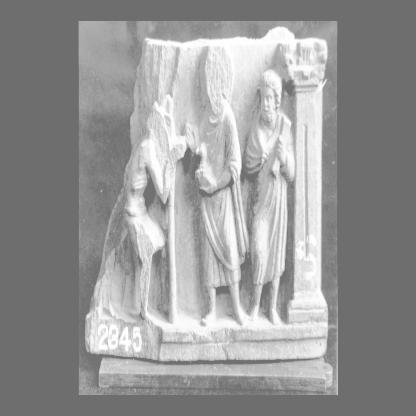buddha-standing: (189, 46, 248, 325)
